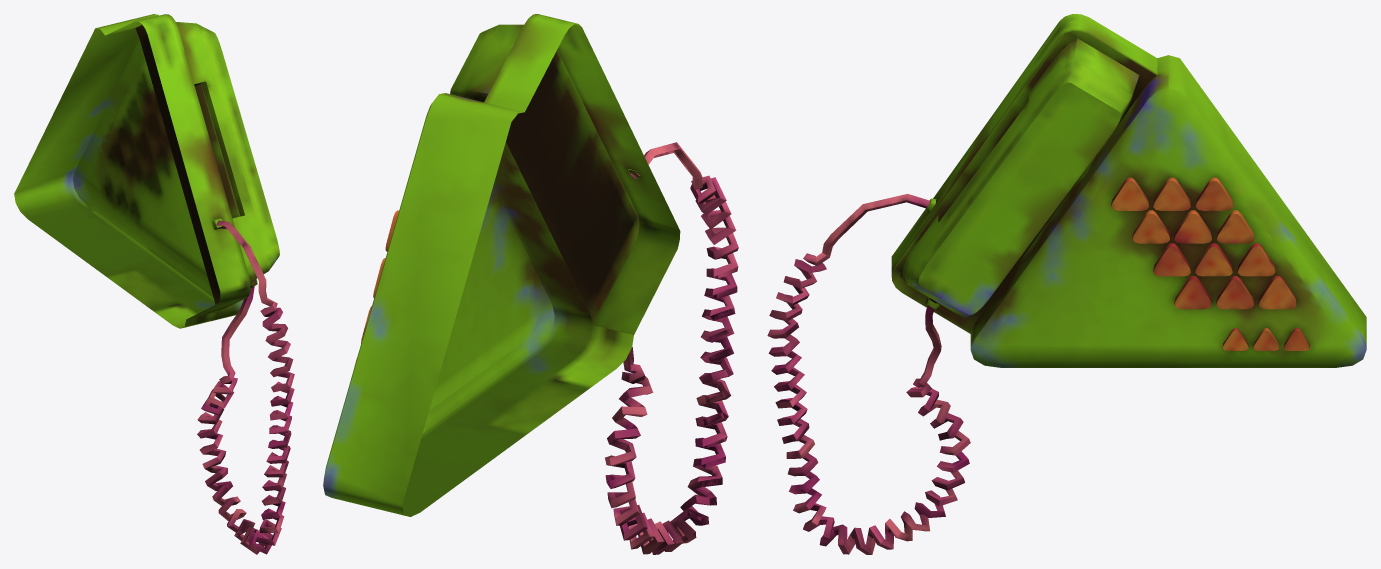
File: PROP_095_FunkyPhone.fbx
The picture shows the model from 3 angles, left to right: view 1: azimuth 30°, elevation 25°; view 2: azimuth 150°, elevation 25°; view 3: azimuth 270°, elevation 25°; orthographic projection. The views are drawn at different scales.
Visible parts, largest first — view 1: Phone; view 2: Phone; view 3: Phone.
Part boxes in pixels (bbox=[...]): Phone: bbox=[14, 14, 294, 554]; Phone: bbox=[323, 14, 738, 554]; Phone: bbox=[767, 14, 1366, 554].
Bounding box in the file's own units: 0.0967 × 0.6 × 0.6129.
Materials: 1 (1 with a texture image).
